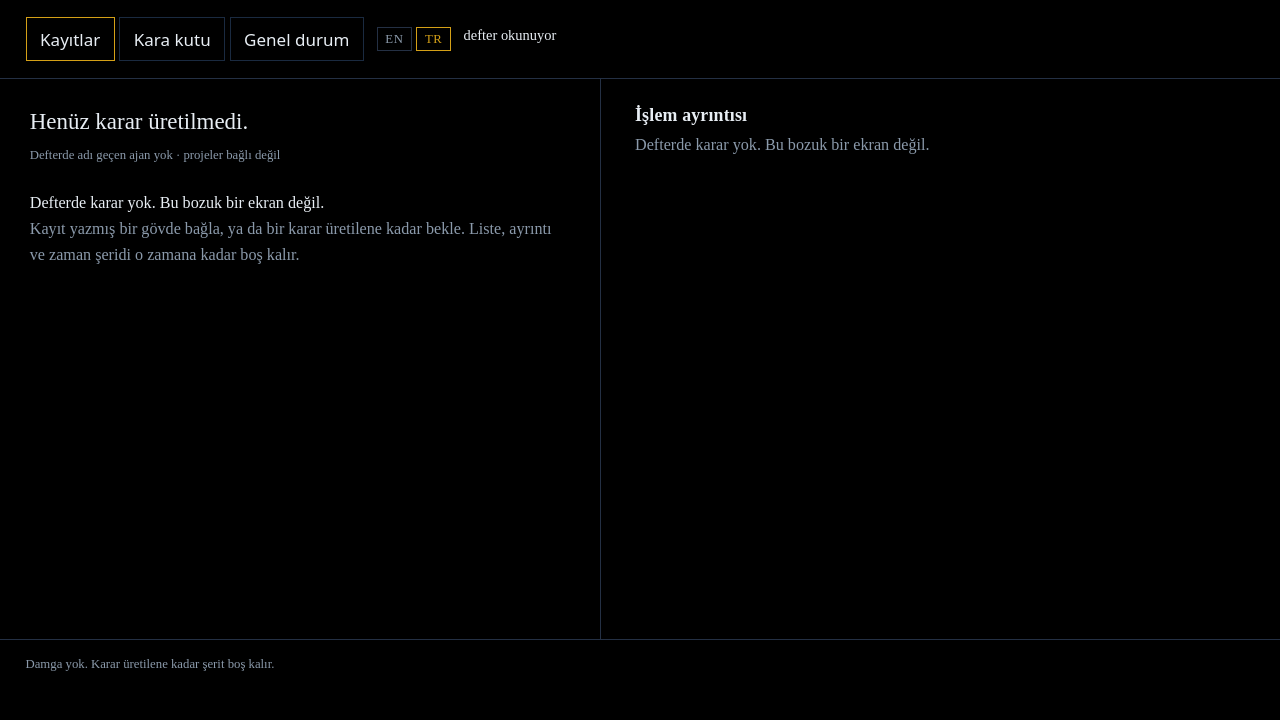
approving from the screen › offers it only on what is still waiting
Step 1. Click the tab "Genel durum" → (297, 39), box [230,17,364,61]
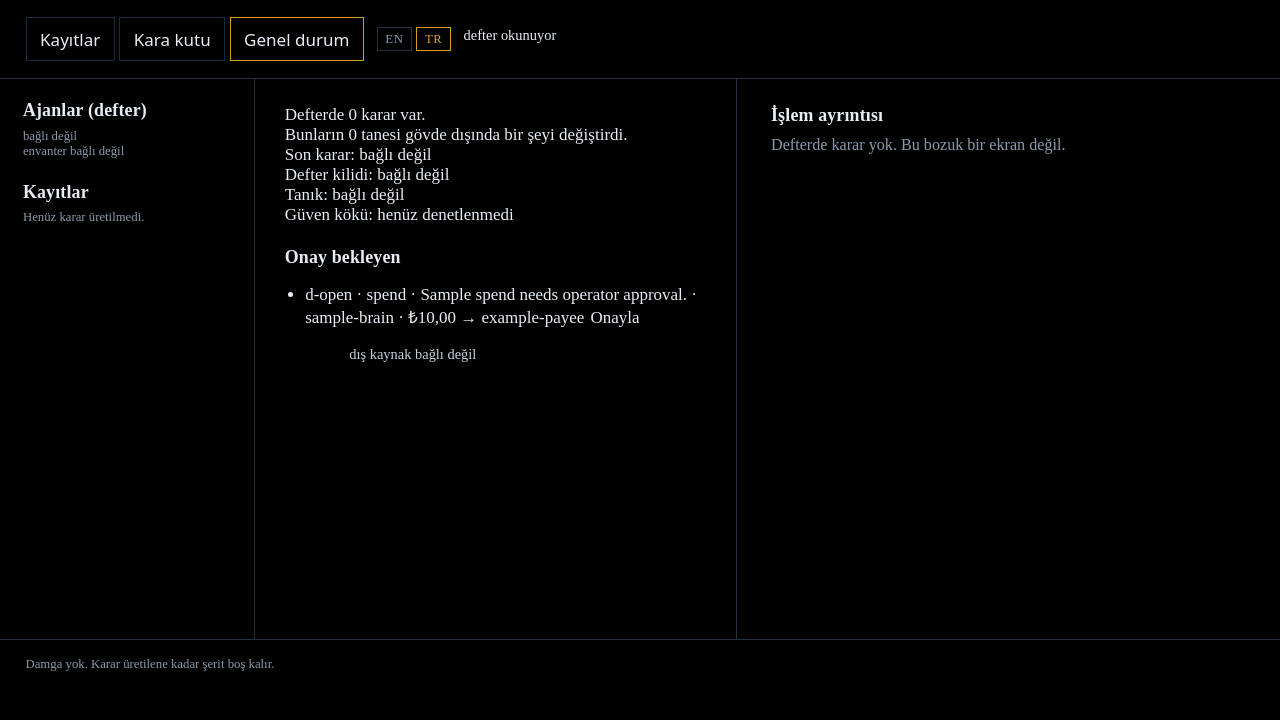
expect the number of buttons "Onayla" is 1: met, box [584,307,646,329]
